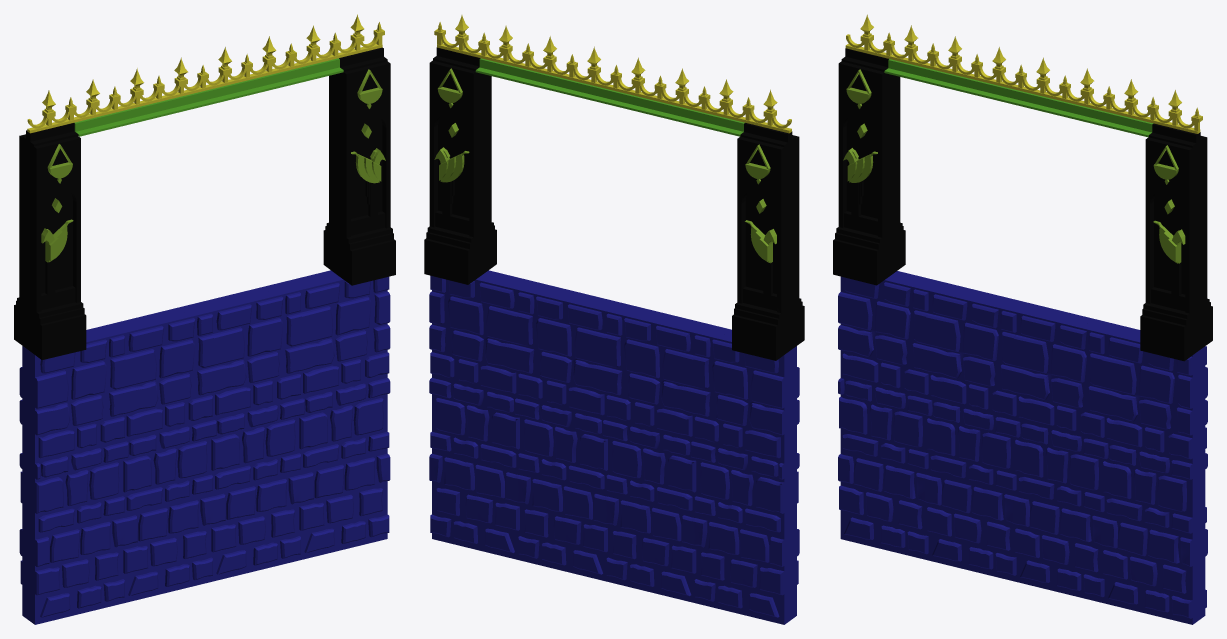
File: SM_tourporte2.fbx
The picture shows the model from 3 angles, left to right: view 1: azimuth 30°, elevation 25°; view 2: azimuth 150°, elevation 25°; view 3: azimuth 330°, elevation 25°; orthographic projection.
Visible parts, largest first — view 1: Plane009, Plane004, GRILLAGE006, Box008; view 2: Plane009, Plane004, GRILLAGE006, Box008; view 3: Plane009, Plane004, GRILLAGE006, Box008.
Boxes of the visible parts, box(x1,y1,x2,y2) form: Plane009: box(19, 270, 390, 624); Plane004: box(14, 47, 395, 359); GRILLAGE006: box(27, 14, 384, 133); Box008: box(74, 58, 343, 136); Plane009: box(429, 270, 799, 624); Plane004: box(424, 47, 804, 360); GRILLAGE006: box(434, 15, 791, 133); Box008: box(475, 58, 744, 136); Plane009: box(838, 271, 1207, 624); Plane004: box(833, 48, 1212, 361); GRILLAGE006: box(845, 14, 1202, 133); Box008: box(884, 59, 1153, 137).
Size of the model in its own units: 805 by 1141 by 115.
